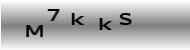7: (47, 7, 60, 22)
M: (25, 23, 44, 37)
S: (119, 11, 132, 25)
k: (71, 11, 85, 26), (98, 16, 113, 30)
